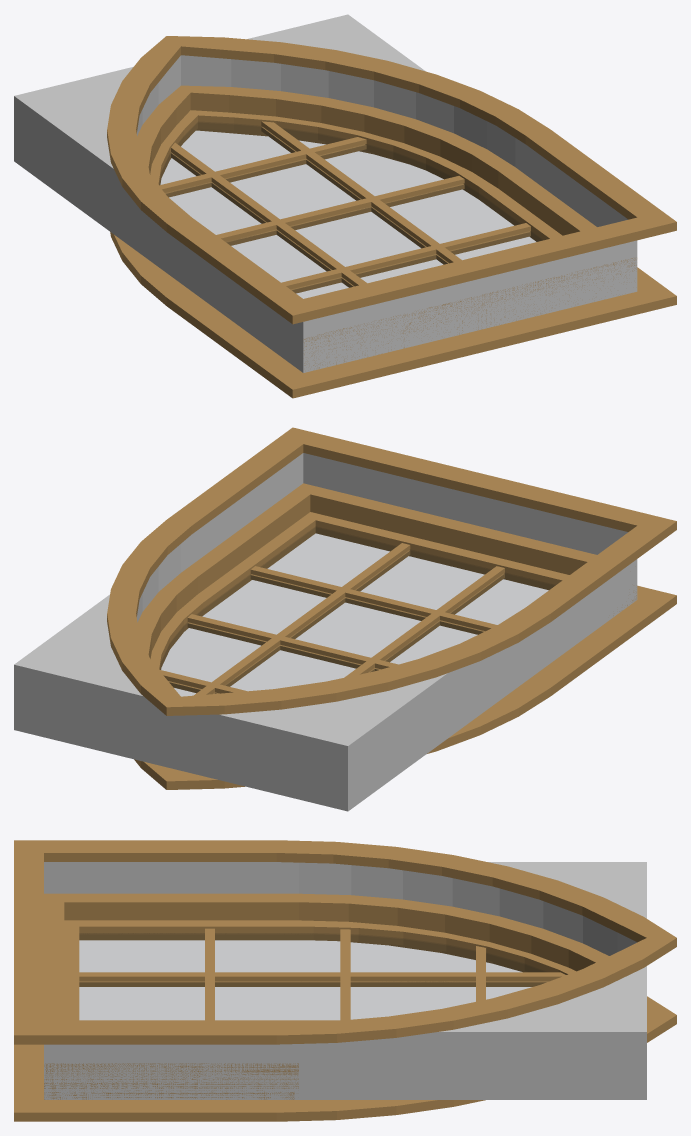
The model's file is window.FBX.
3 views of the same model, one above another, from view 1: azimuth 30°, elevation 25°; view 2: azimuth 150°, elevation 25°; view 3: azimuth 270°, elevation 25° (orthographic). The views are drawn at different scales.
Parts seen in each view (by area): view 1: 3:1, 1:1, 2:1; view 2: 3:1, 1:1, 2:1; view 3: 3:1, 1:1, 2:1.
Boxes of the visible parts, box(x1,y1,x2,y2) form: 3:1: box(107, 36, 676, 398); 1:1: box(14, 14, 637, 372); 2:1: box(137, 85, 637, 368); 3:1: box(107, 427, 676, 789); 1:1: box(14, 453, 637, 811); 2:1: box(137, 483, 636, 658); 3:1: box(14, 840, 676, 1121); 1:1: box(44, 862, 646, 1099); 2:1: box(44, 893, 608, 1099).
Size of the model in its own units: 2.97 by 0.6116 by 4.26.
